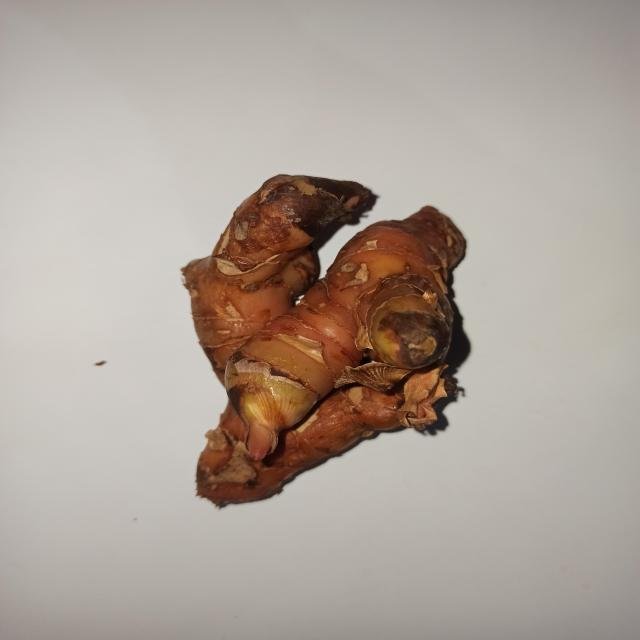ginger: (166, 170, 515, 474)
